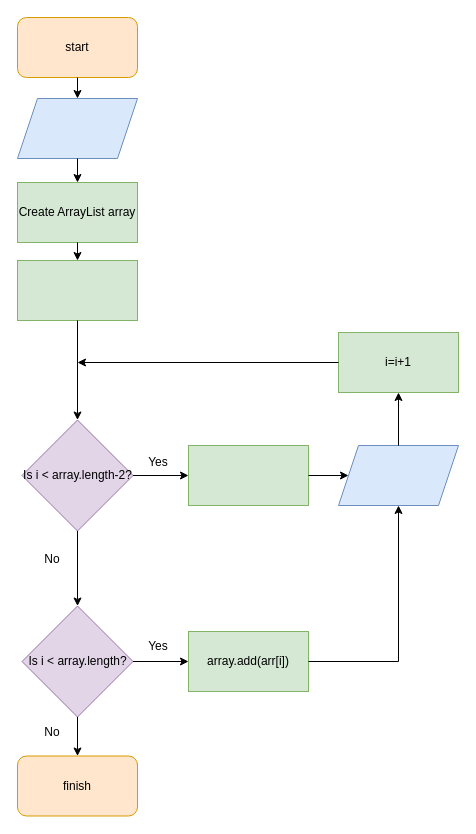
Some shapes in this 476 by 834 pixel diagram are drawn without their labels. The shapes that lost their labels are listed below. From the top down, each one's centre as x and y in pixels, then its label:
(77,128): input integer array arr
(77,290): Set i to 0
(248,475): array.add(arr[i+2])
(398,475): print out array.get(i)
